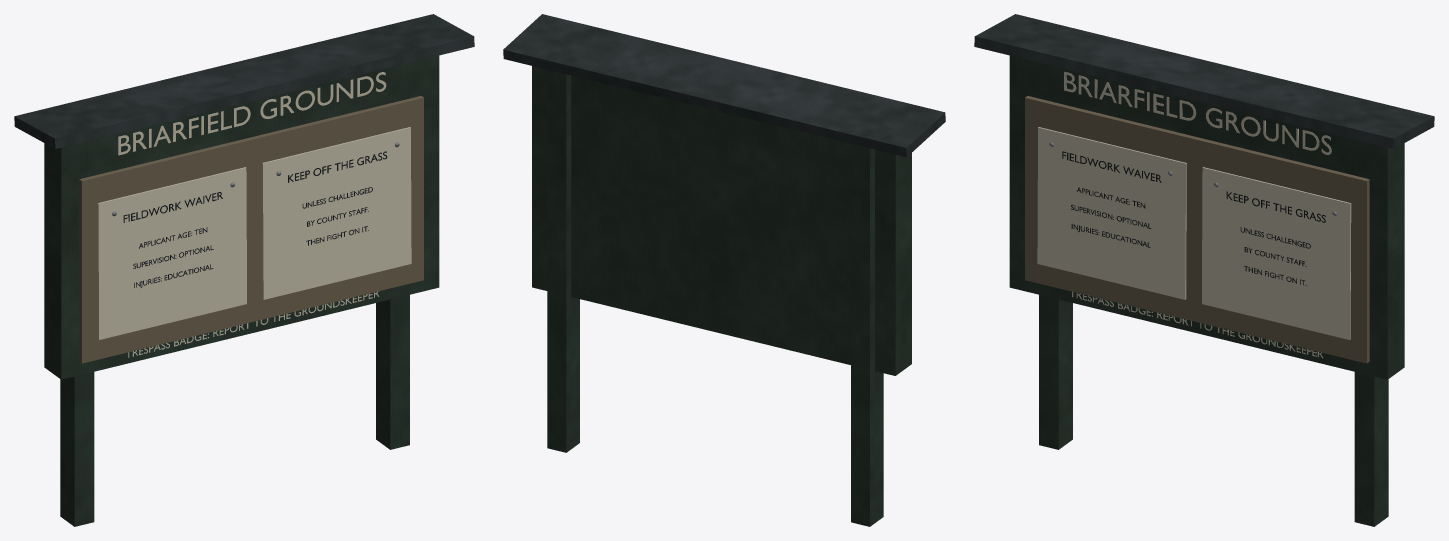
Rendered from briarfield-grounds-notice.glb.
3 renders of one model, left to right at view 1: azimuth 30°, elevation 25°; view 2: azimuth 150°, elevation 25°; view 3: azimuth 330°, elevation 25°, orthographic. The views are drawn at different scales.
Visible parts, largest first — view 1: Noticeboard backing, Noticeboard cork, Official weathered notice.001, Official weathered notice, Noticeboard rain hood, Notice timber post, Notice timber post.001, Grounds title, Notice footer; view 2: Noticeboard backing, Noticeboard rain hood, Notice timber post.001, Notice timber post; view 3: Noticeboard backing, Noticeboard cork, Official weathered notice, Official weathered notice.001, Noticeboard rain hood, Notice timber post.001, Notice timber post, Grounds title, Notice footer.
Part boxes in pixels (bbox=[...]): Noticeboard backing: bbox=[44, 55, 439, 379]; Noticeboard cork: bbox=[79, 96, 423, 363]; Official weathered notice.001: bbox=[262, 127, 411, 299]; Official weathered notice: bbox=[97, 167, 246, 339]; Noticeboard rain hood: bbox=[14, 14, 474, 148]; Notice timber post: bbox=[60, 372, 94, 526]; Notice timber post.001: bbox=[376, 295, 409, 449]; Grounds title: bbox=[118, 72, 386, 155]; Notice footer: bbox=[128, 291, 379, 357]; Noticeboard backing: bbox=[532, 66, 911, 375]; Noticeboard rain hood: bbox=[503, 14, 945, 157]; Notice timber post.001: bbox=[547, 69, 579, 452]; Notice timber post: bbox=[851, 144, 883, 526]; Noticeboard backing: bbox=[1009, 55, 1404, 379]; Noticeboard cork: bbox=[1025, 96, 1369, 363]; Official weathered notice: bbox=[1037, 127, 1186, 299]; Official weathered notice.001: bbox=[1202, 167, 1351, 339]; Noticeboard rain hood: bbox=[974, 14, 1434, 148]; Notice timber post.001: bbox=[1354, 372, 1388, 526]; Notice timber post: bbox=[1039, 295, 1072, 449]; Grounds title: bbox=[1064, 71, 1331, 154]; Notice footer: bbox=[1072, 291, 1323, 358].
Size of the model in its own units: 2.55 by 2.41 by 0.4337.
Materials: 6 (2 with a texture image).
